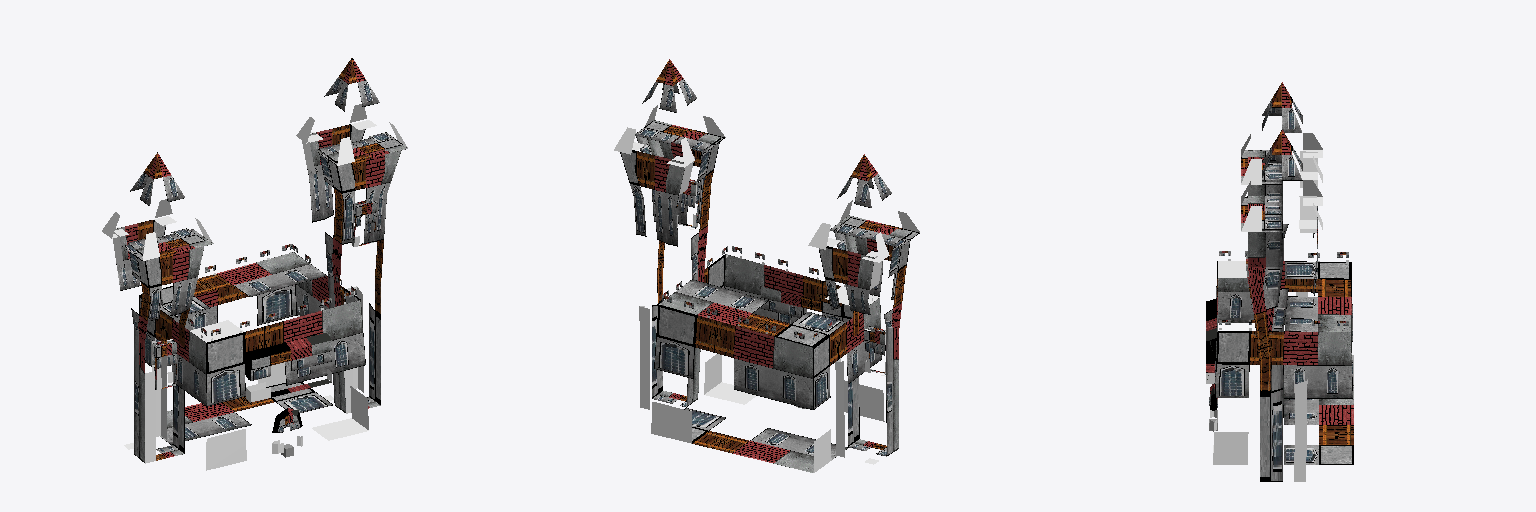
3 views of the same model, side by side, from view 1: azimuth 30°, elevation 25°; view 2: azimuth 150°, elevation 25°; view 3: azimuth 270°, elevation 25° (orthographic).
Visible parts, largest first — view 1: Middle_Tow, Tower2, Window1, Windows, Spire1, Spire2, Box01, Door, Box02; view 2: Middle_Tow, Tower2, Window1, Spire1, Spire2, Windows, Box01; view 3: Middle_Tow, Tower2, Spire1, Spire2, Window1, Windows.
Part boxes in pixels (x1,y1,x2,y2): Middle_Tow: (139,252,368,470); Tower2: (302,120,402,413); Window1: (113,216,204,463); Windows: (245,333,331,402); Spire1: (102,152,213,260); Spire2: (296,58,407,165); Box01: (151,339,176,389); Door: (272,408,302,453); Box02: (350,200,377,246); Middle_Tow: (651,254,884,472); Tower2: (620,121,720,409); Window1: (819,217,911,464); Spire1: (808,154,919,262); Spire2: (614,59,725,167); Windows: (760,286,842,320); Box01: (864,326,885,376); Middle_Tow: (1213,261,1353,464); Tower2: (1247,196,1317,481); Spire1: (1241,82,1322,184); Spire2: (1241,130,1322,231); Window1: (1248,150,1317,296); Windows: (1206,298,1216,383).
Size of the model in its own units: 65.29 by 81.76 by 31.59.
Materials: 7 (1 with a texture image).